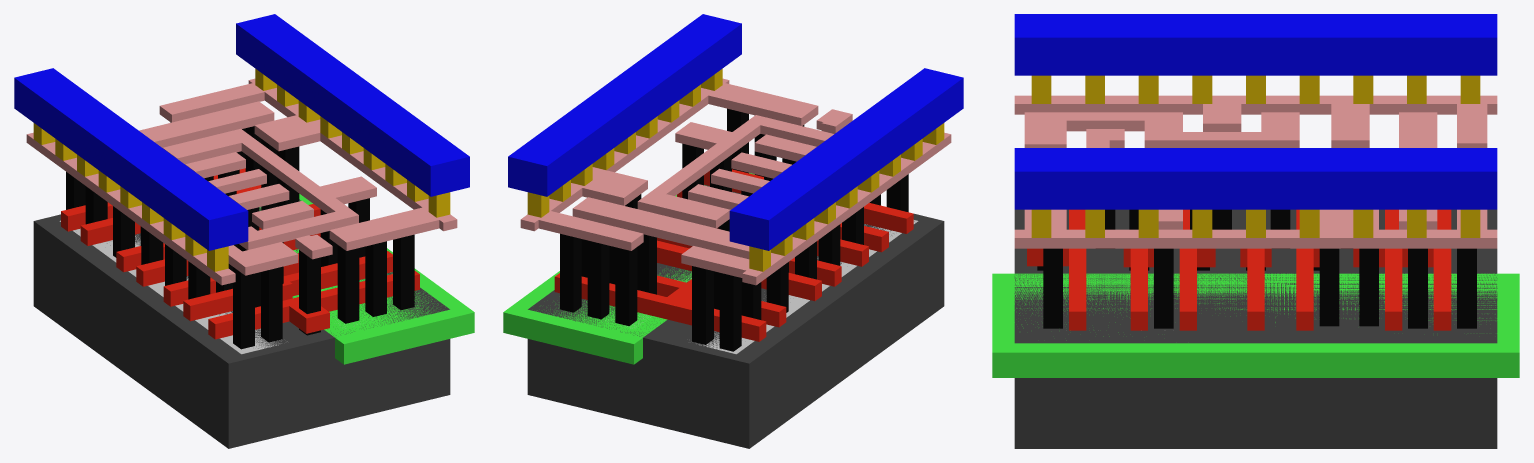
File: sky130_fd_sc_hd__o32a_2.obj
3 views of the same model, side by side, from view 1: azimuth 30°, elevation 25°; view 2: azimuth 150°, elevation 25°; view 3: azimuth 270°, elevation 25° (orthographic). The views are drawn at different scales.
Parts seen in each view (by area): view 1: subs, metal1, li, licon, poly, nwell, mcon, diff; view 2: subs, metal1, li, licon, poly, nwell, mcon, diff; view 3: metal1, subs, li, nwell, poly, licon, mcon.
Boxes of the visible parts, box(x1,y1,x2,y2) form: subs: box(33, 199, 450, 448); metal1: box(14, 14, 469, 250); li: box(26, 78, 457, 285); licon: box(66, 122, 414, 349); poly: box(61, 168, 419, 339); nwell: box(259, 194, 474, 364); mcon: box(33, 68, 450, 271); diff: box(59, 220, 287, 354); subs: box(527, 184, 944, 448); metal1: box(508, 14, 963, 250); li: box(520, 78, 951, 285); licon: box(560, 108, 908, 351); poly: box(554, 169, 913, 341); nwell: box(503, 173, 754, 364); mcon: box(527, 68, 944, 271); diff: box(696, 220, 918, 354); metal1: box(1014, 14, 1497, 209); subs: box(1014, 209, 1497, 448); li: box(1014, 95, 1497, 248); nwell: box(992, 273, 1519, 377); poly: box(1027, 209, 1451, 330); licon: box(1037, 209, 1476, 328); mcon: box(1031, 75, 1480, 237).
Size of the model in its own units: 3.2 by 2.74 by 4.52.
